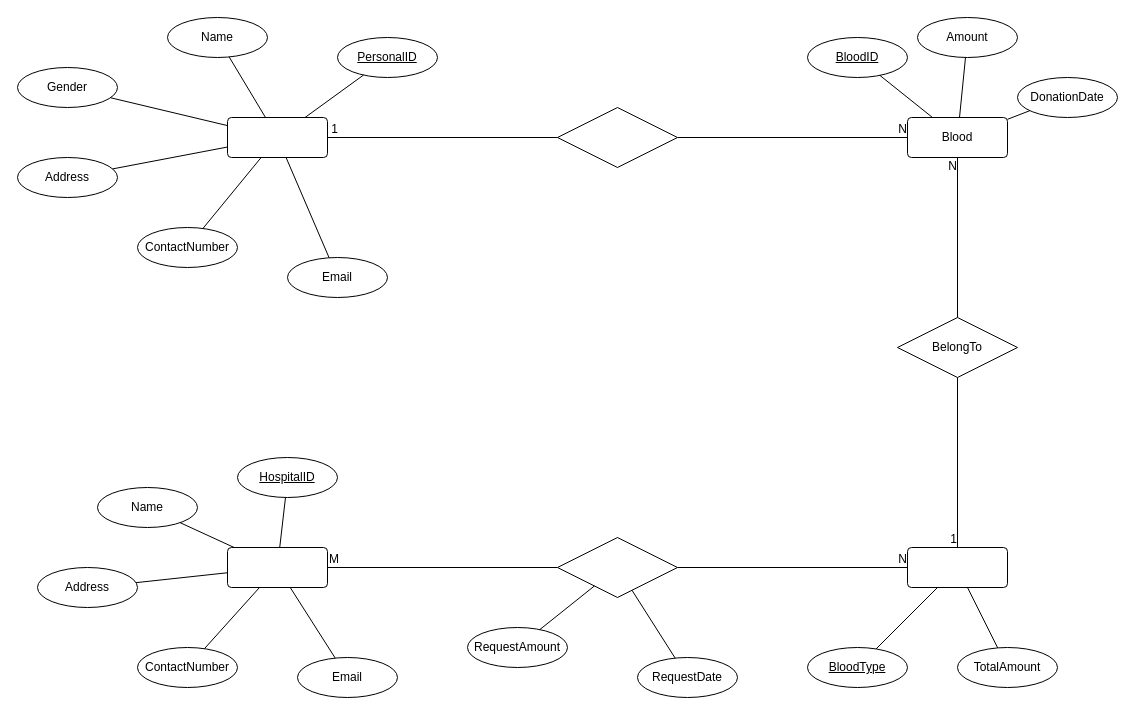
This 1135x715 diagram has some shape labels left out. The centre of each missing label's shape, as x and y in pixels:
"BloodGroup" goes at point (957, 567).
"Donor" goes at point (277, 137).
"Hospital" goes at point (277, 567).
"Register" goes at point (617, 137).
"RequestBlood" goes at point (617, 567).
